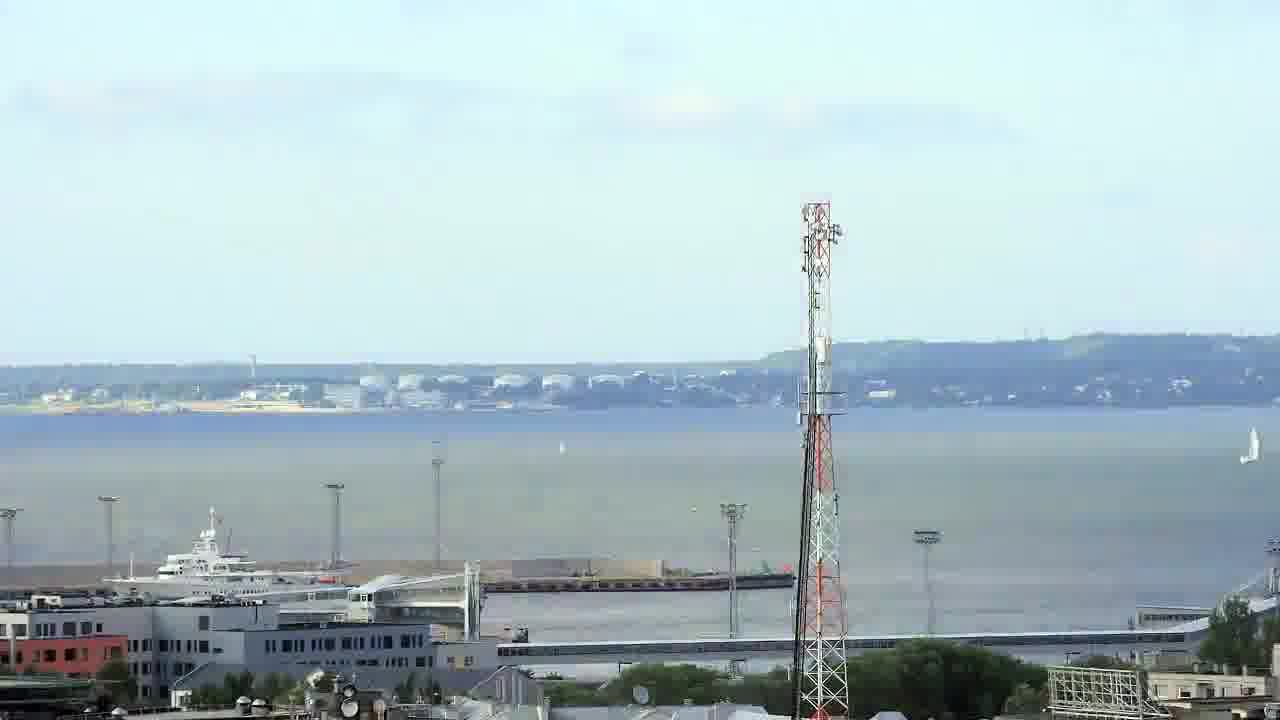type-2: (1225, 412, 1275, 486)
type-3: (84, 515, 355, 603)
